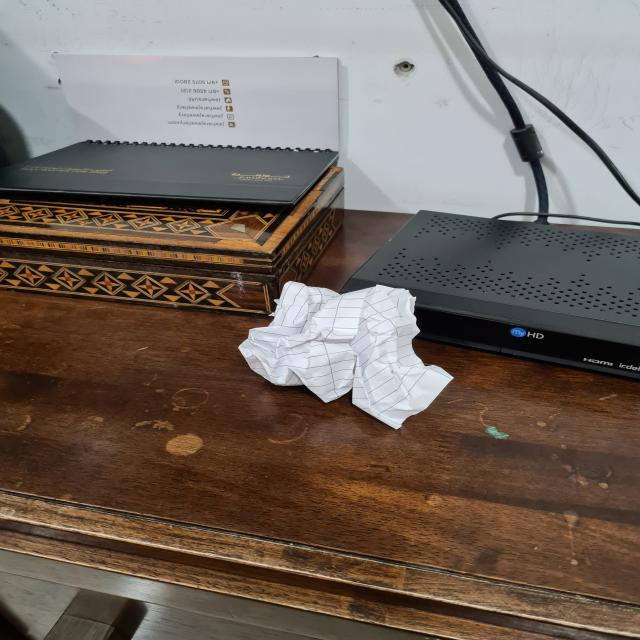Paper: (236, 281, 451, 425)
